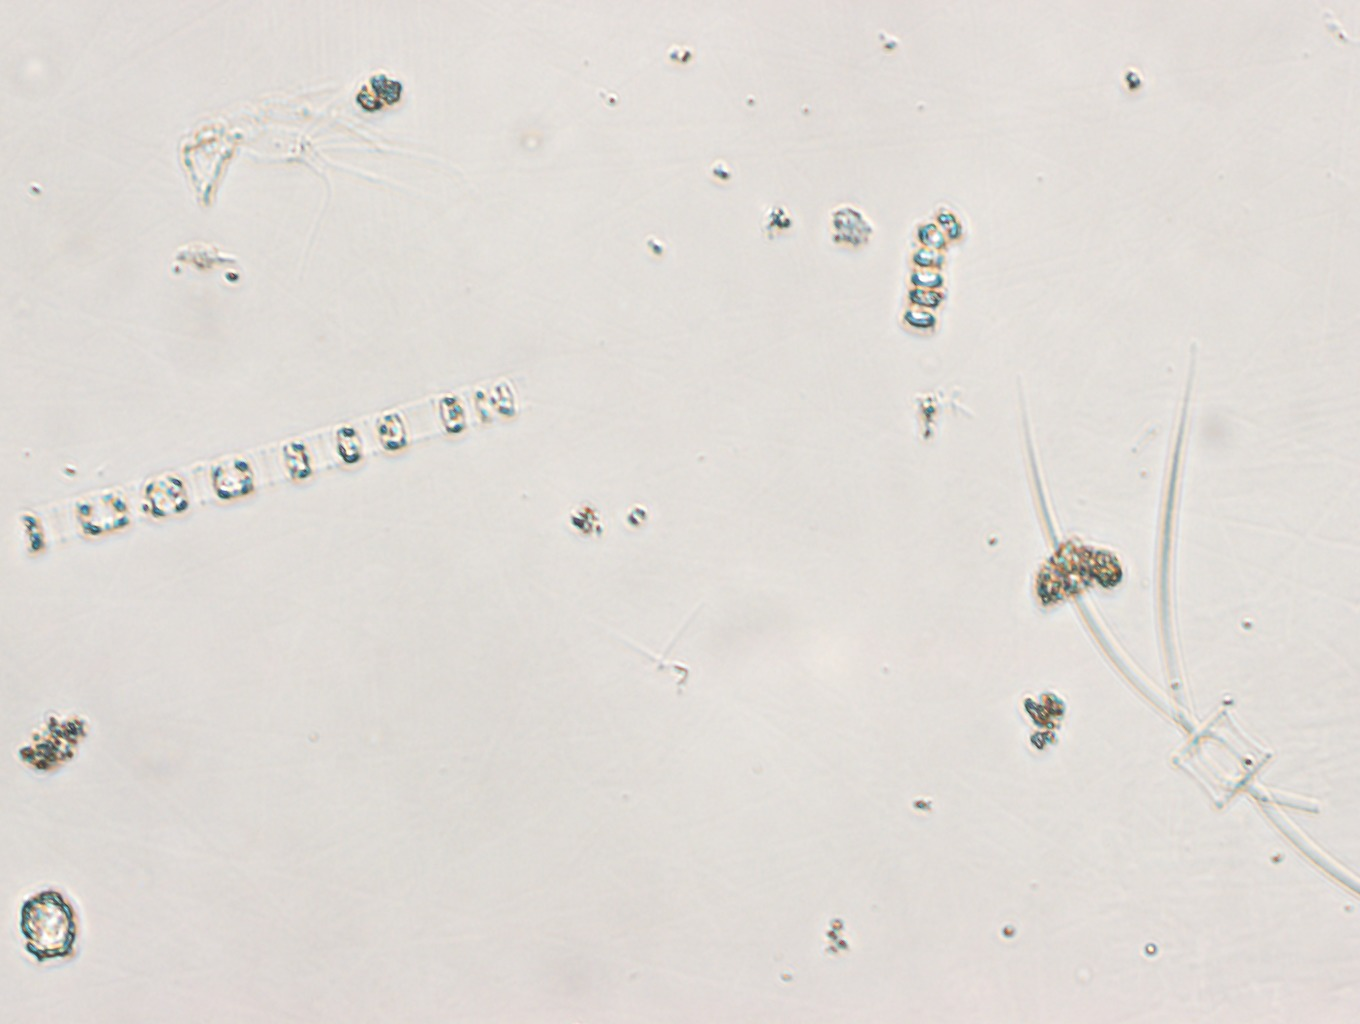chaetoceros: (1019, 349, 1360, 896)
skeletonema: (9, 366, 529, 561), (899, 208, 965, 333)
